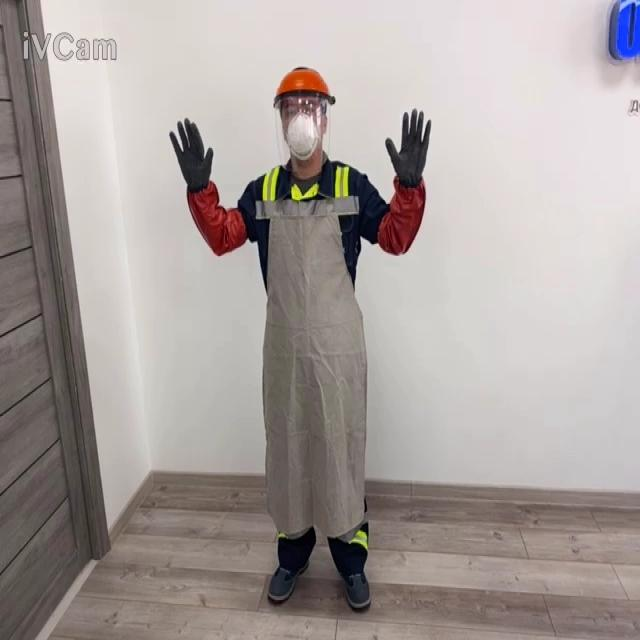Gloves: (168, 116, 247, 256), (385, 108, 431, 188)
Mask: (283, 110, 320, 162)
Protective apron: (255, 168, 368, 540)
Safety Shoes: (266, 558, 308, 602), (343, 569, 370, 608)
Sleeve: (185, 179, 247, 256), (377, 173, 425, 255)
gloves: (168, 116, 213, 192)
